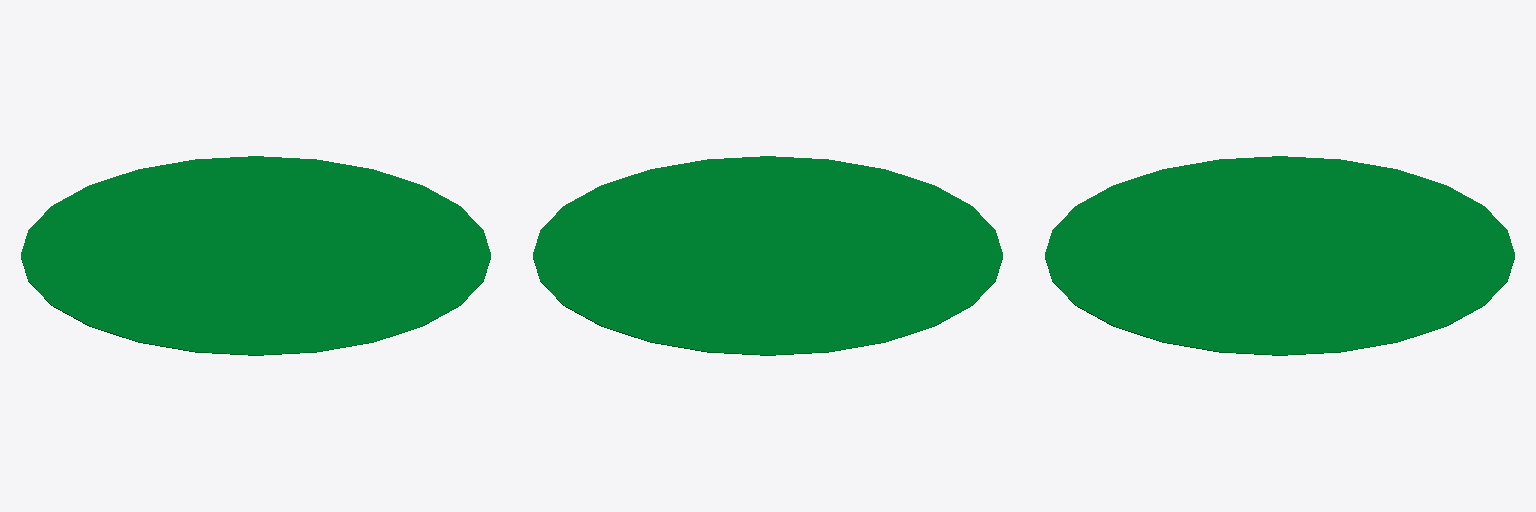
The model's file is groundplane.obj.
3 renders of one model, left to right at view 1: azimuth 30°, elevation 25°; view 2: azimuth 150°, elevation 25°; view 3: azimuth 270°, elevation 25°, orthographic.
Parts seen in each view (by area): view 1: 1; view 2: 1; view 3: 1.
Boxes of the visible parts, box(x1,y1,x2,y2) form: 1: box(21, 156, 490, 355); 1: box(533, 156, 1002, 355); 1: box(1045, 156, 1514, 355).
Bounding box in the file's own units: 1000 × 2 × 1000.